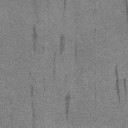red iron: (115, 66, 120, 102), (32, 26, 38, 50), (65, 94, 70, 115), (60, 34, 64, 54), (30, 86, 34, 96), (124, 78, 126, 91), (64, 0, 66, 10)
